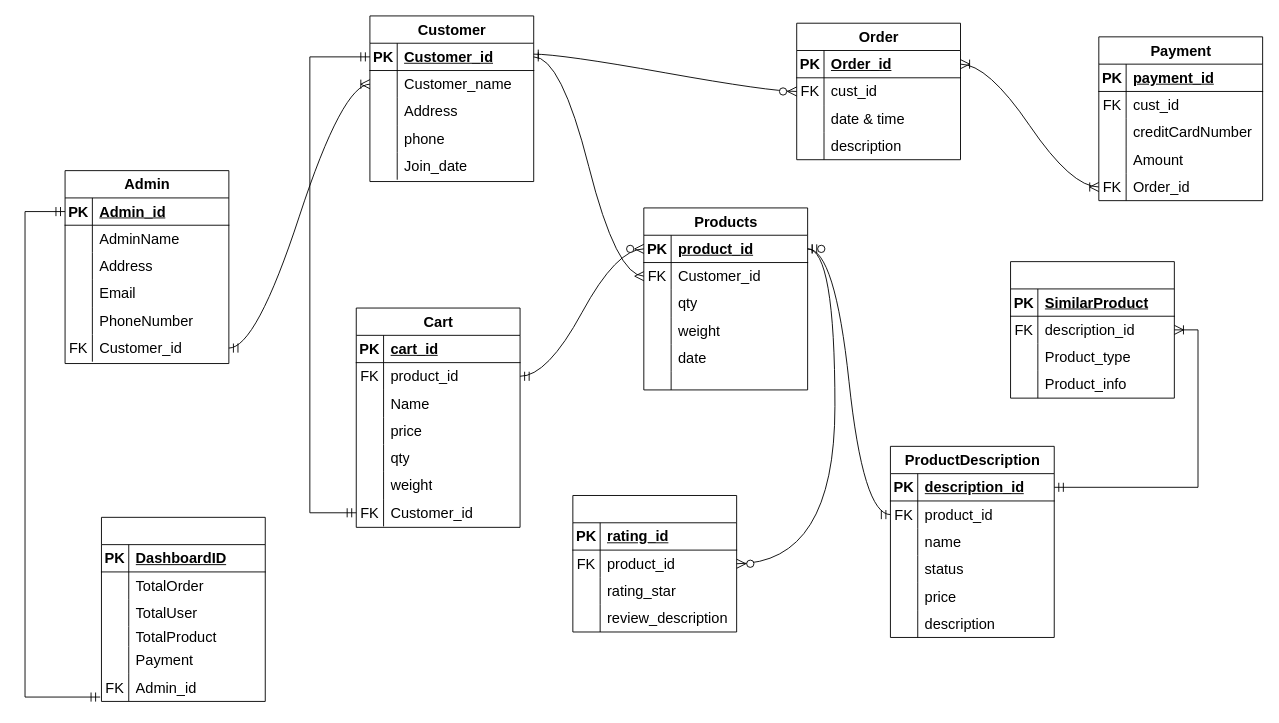
Some shapes in this 1279 by 723 pixel diagram are drawn without their labels. Each missing label, with the box of its shape:
AdminDashboard: (101, 516, 265, 701)
Rating & Review: (572, 495, 737, 632)
SimilarProducts: (1010, 261, 1174, 398)
